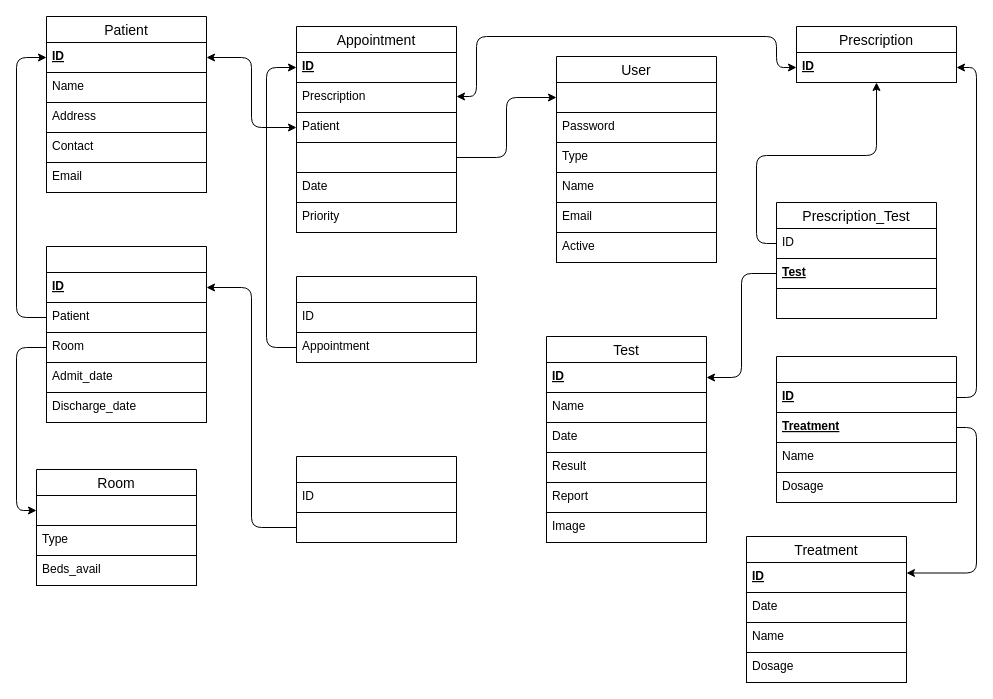
The diagram is 993 pixels wide and 699 high, and some of its shapes have lost their labels. Here are the shapes that lost their labels. From the top down, the box of each, then its label:
(556, 82, 716, 112): Username
(296, 142, 456, 172): Doctor
(296, 276, 476, 362): Patient_Appointment
(776, 288, 936, 318): Important
(46, 246, 206, 422): Addmission
(776, 356, 956, 502): Prescription_Treatment
(36, 494, 196, 526): Number
(296, 456, 456, 542): Patient_Admission
(296, 512, 456, 542): Admission
